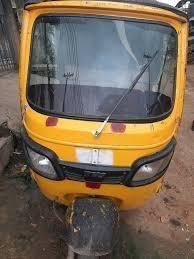keke: (13, 2, 193, 259)
